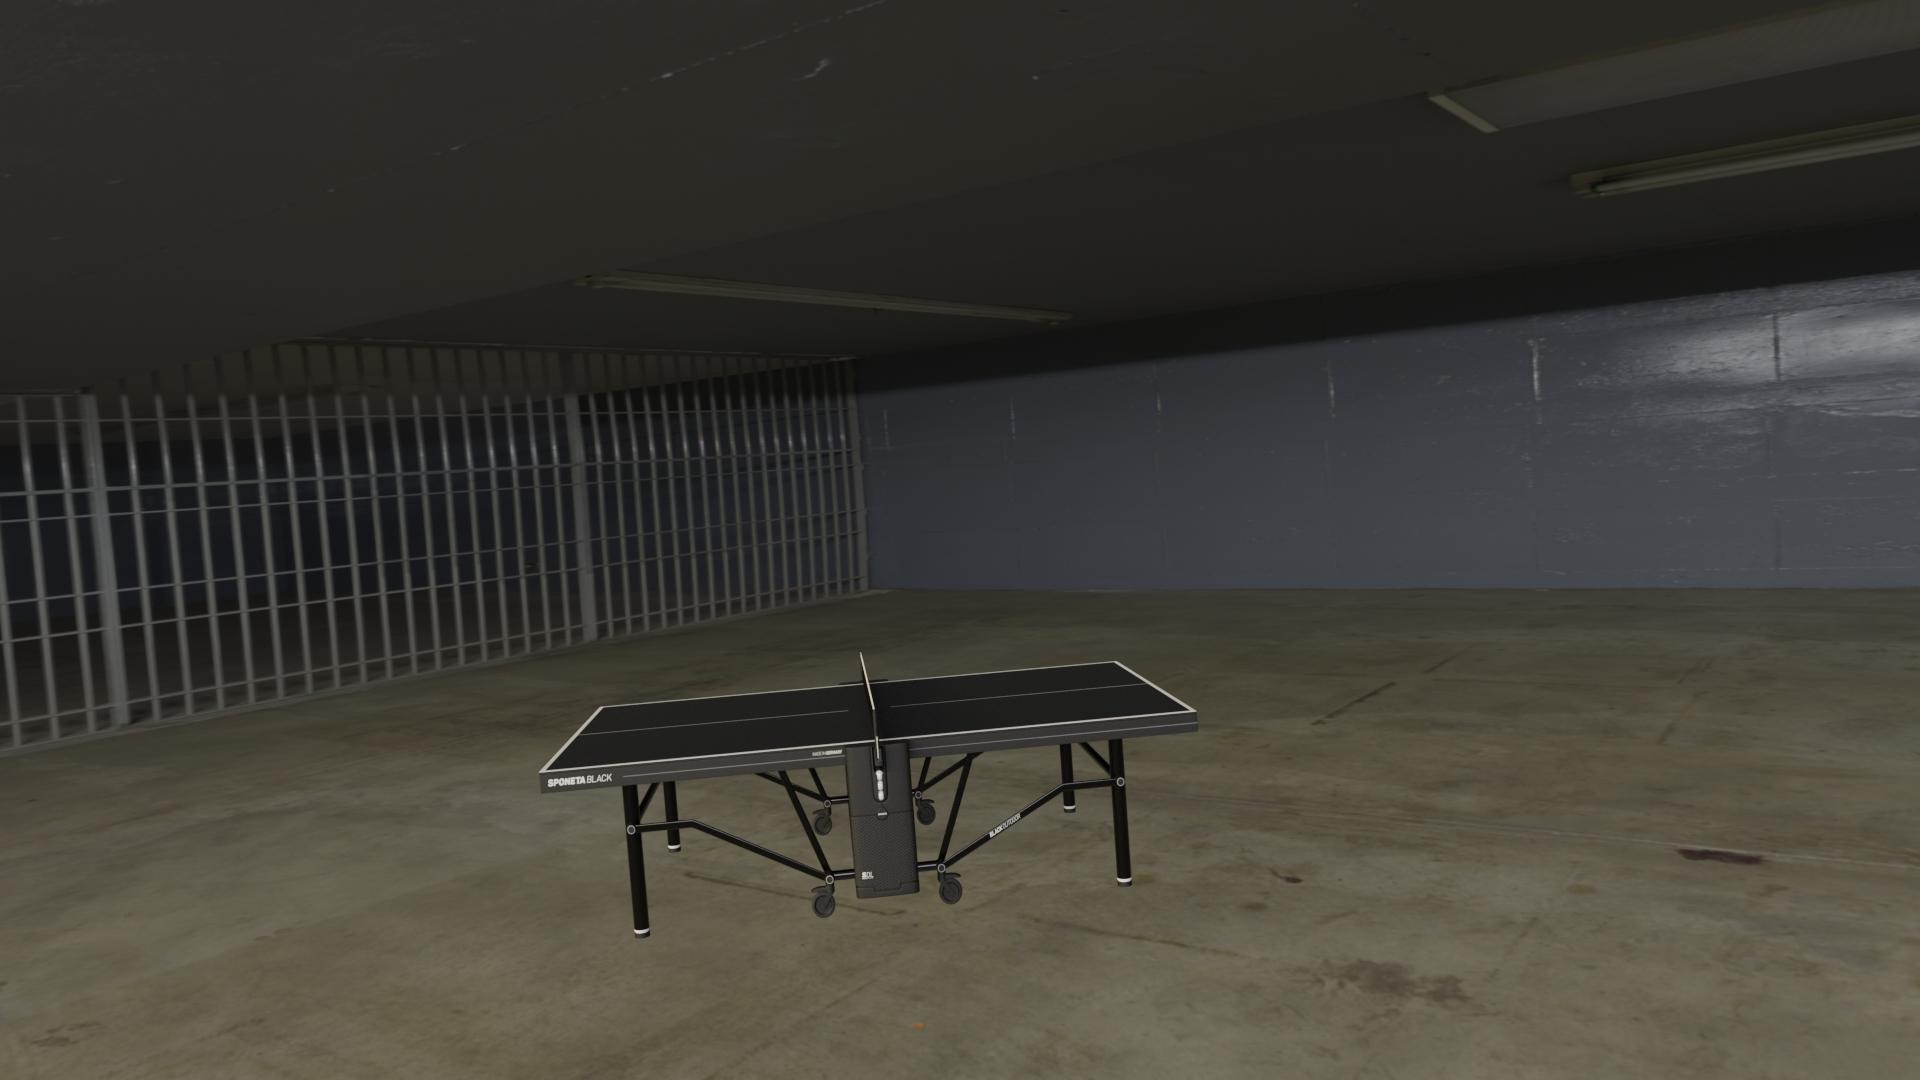table: (545, 662, 1191, 770)
